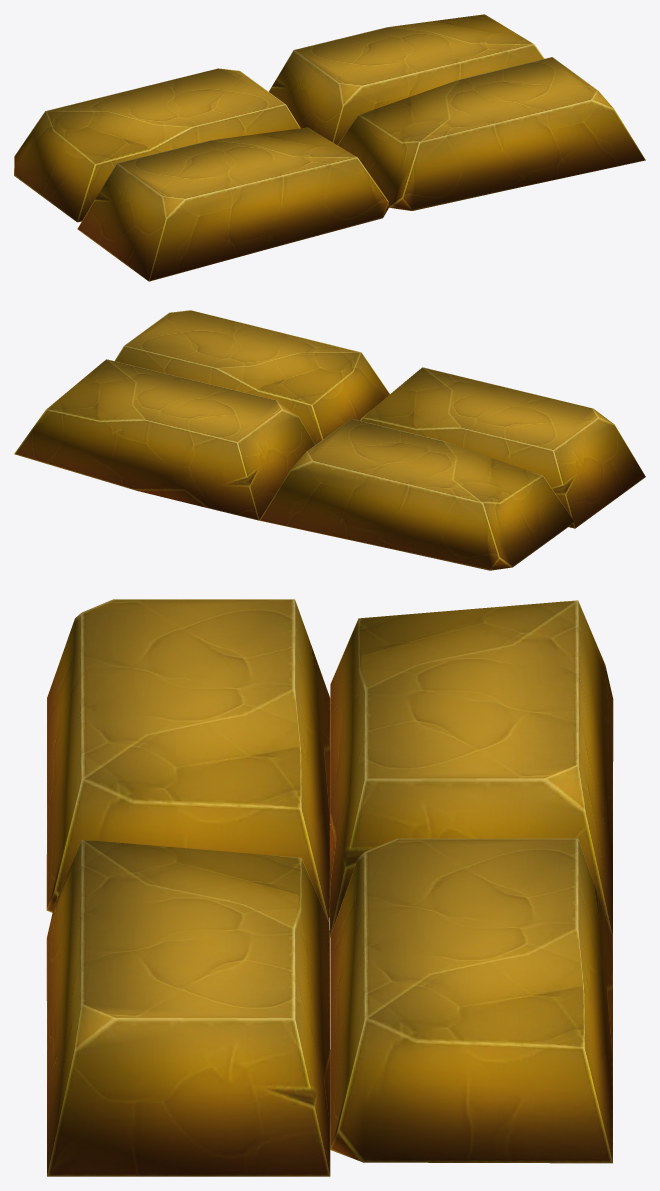
The model's file is Gold_Pile_5.glb.
3 renders of one model, top to bottom at view 1: azimuth 30°, elevation 25°; view 2: azimuth 150°, elevation 25°; view 3: azimuth 270°, elevation 25°, orthographic. The views are drawn at different scales.
Visible parts, largest first — view 1: Gold-20; view 2: Gold-20; view 3: Gold-20.
Part boxes in pixels (bbox=[...]): Gold-20: bbox=[14, 14, 645, 281]; Gold-20: bbox=[14, 310, 645, 570]; Gold-20: bbox=[46, 599, 613, 1176].
Bounding box in the file's own units: 0.66 × 0.0825 × 0.3302.
Materials: 1 (1 with a texture image).
